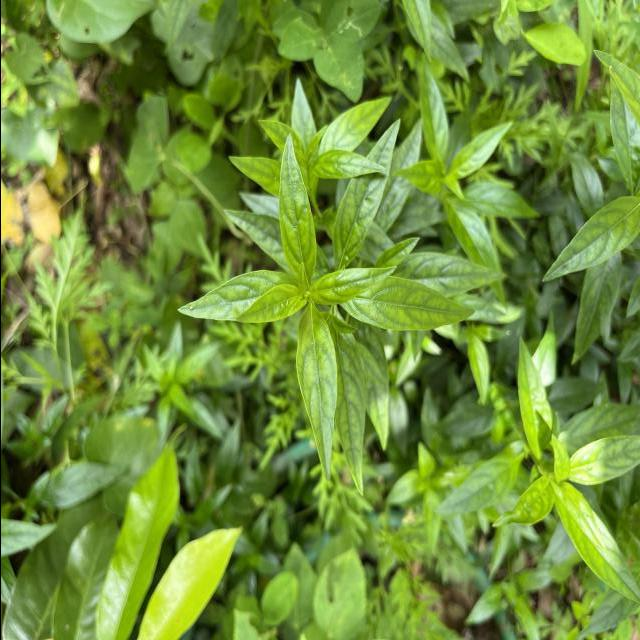Andrographis paniculata: (552, 484, 640, 606), (330, 118, 400, 269), (539, 192, 640, 282), (336, 273, 474, 333), (294, 304, 338, 484), (176, 268, 292, 322), (276, 132, 317, 282), (432, 452, 525, 515), (516, 334, 552, 460), (318, 95, 392, 152), (447, 120, 513, 180), (568, 432, 640, 486), (310, 265, 398, 306), (417, 51, 450, 160), (456, 182, 542, 220), (231, 282, 305, 324), (310, 148, 385, 180)
